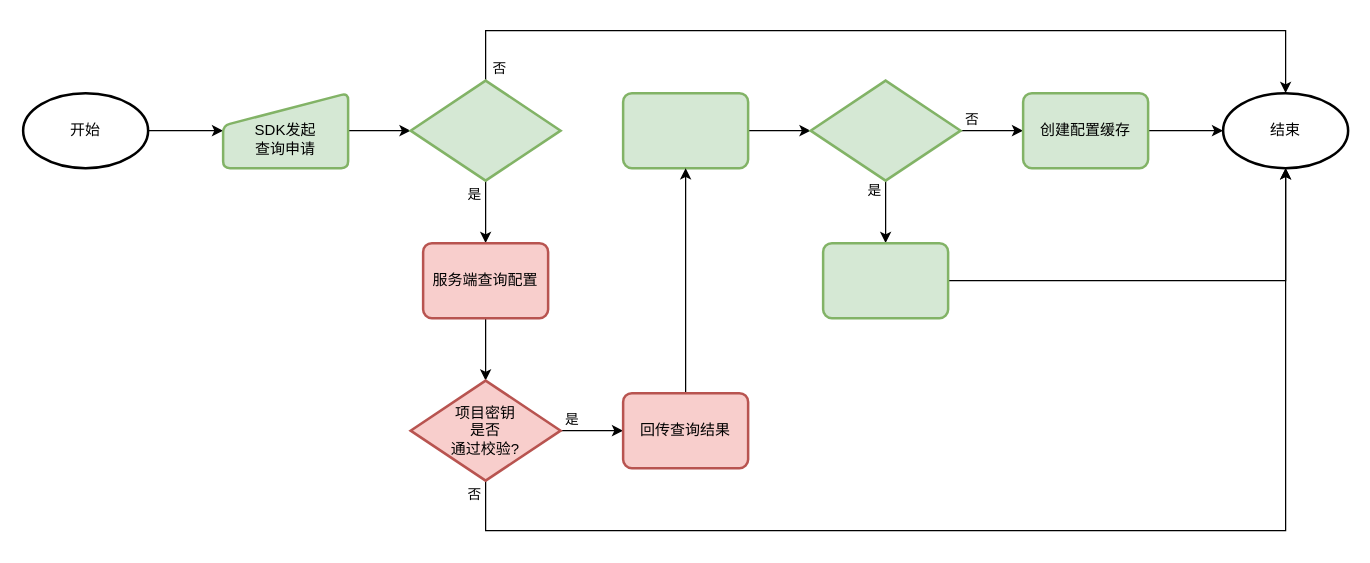
The diagram is 1370 pixels wide and 563 high, and some of its shapes have lost their labels. The centre of each missing label's shape, as x and y in pixels:
SDK接收配置: (x=685, y=130)
修改配置缓存: (x=885, y=280)
是否存在缓存?: (x=885, y=130)
是否正常访问 服务端?: (x=485, y=130)
